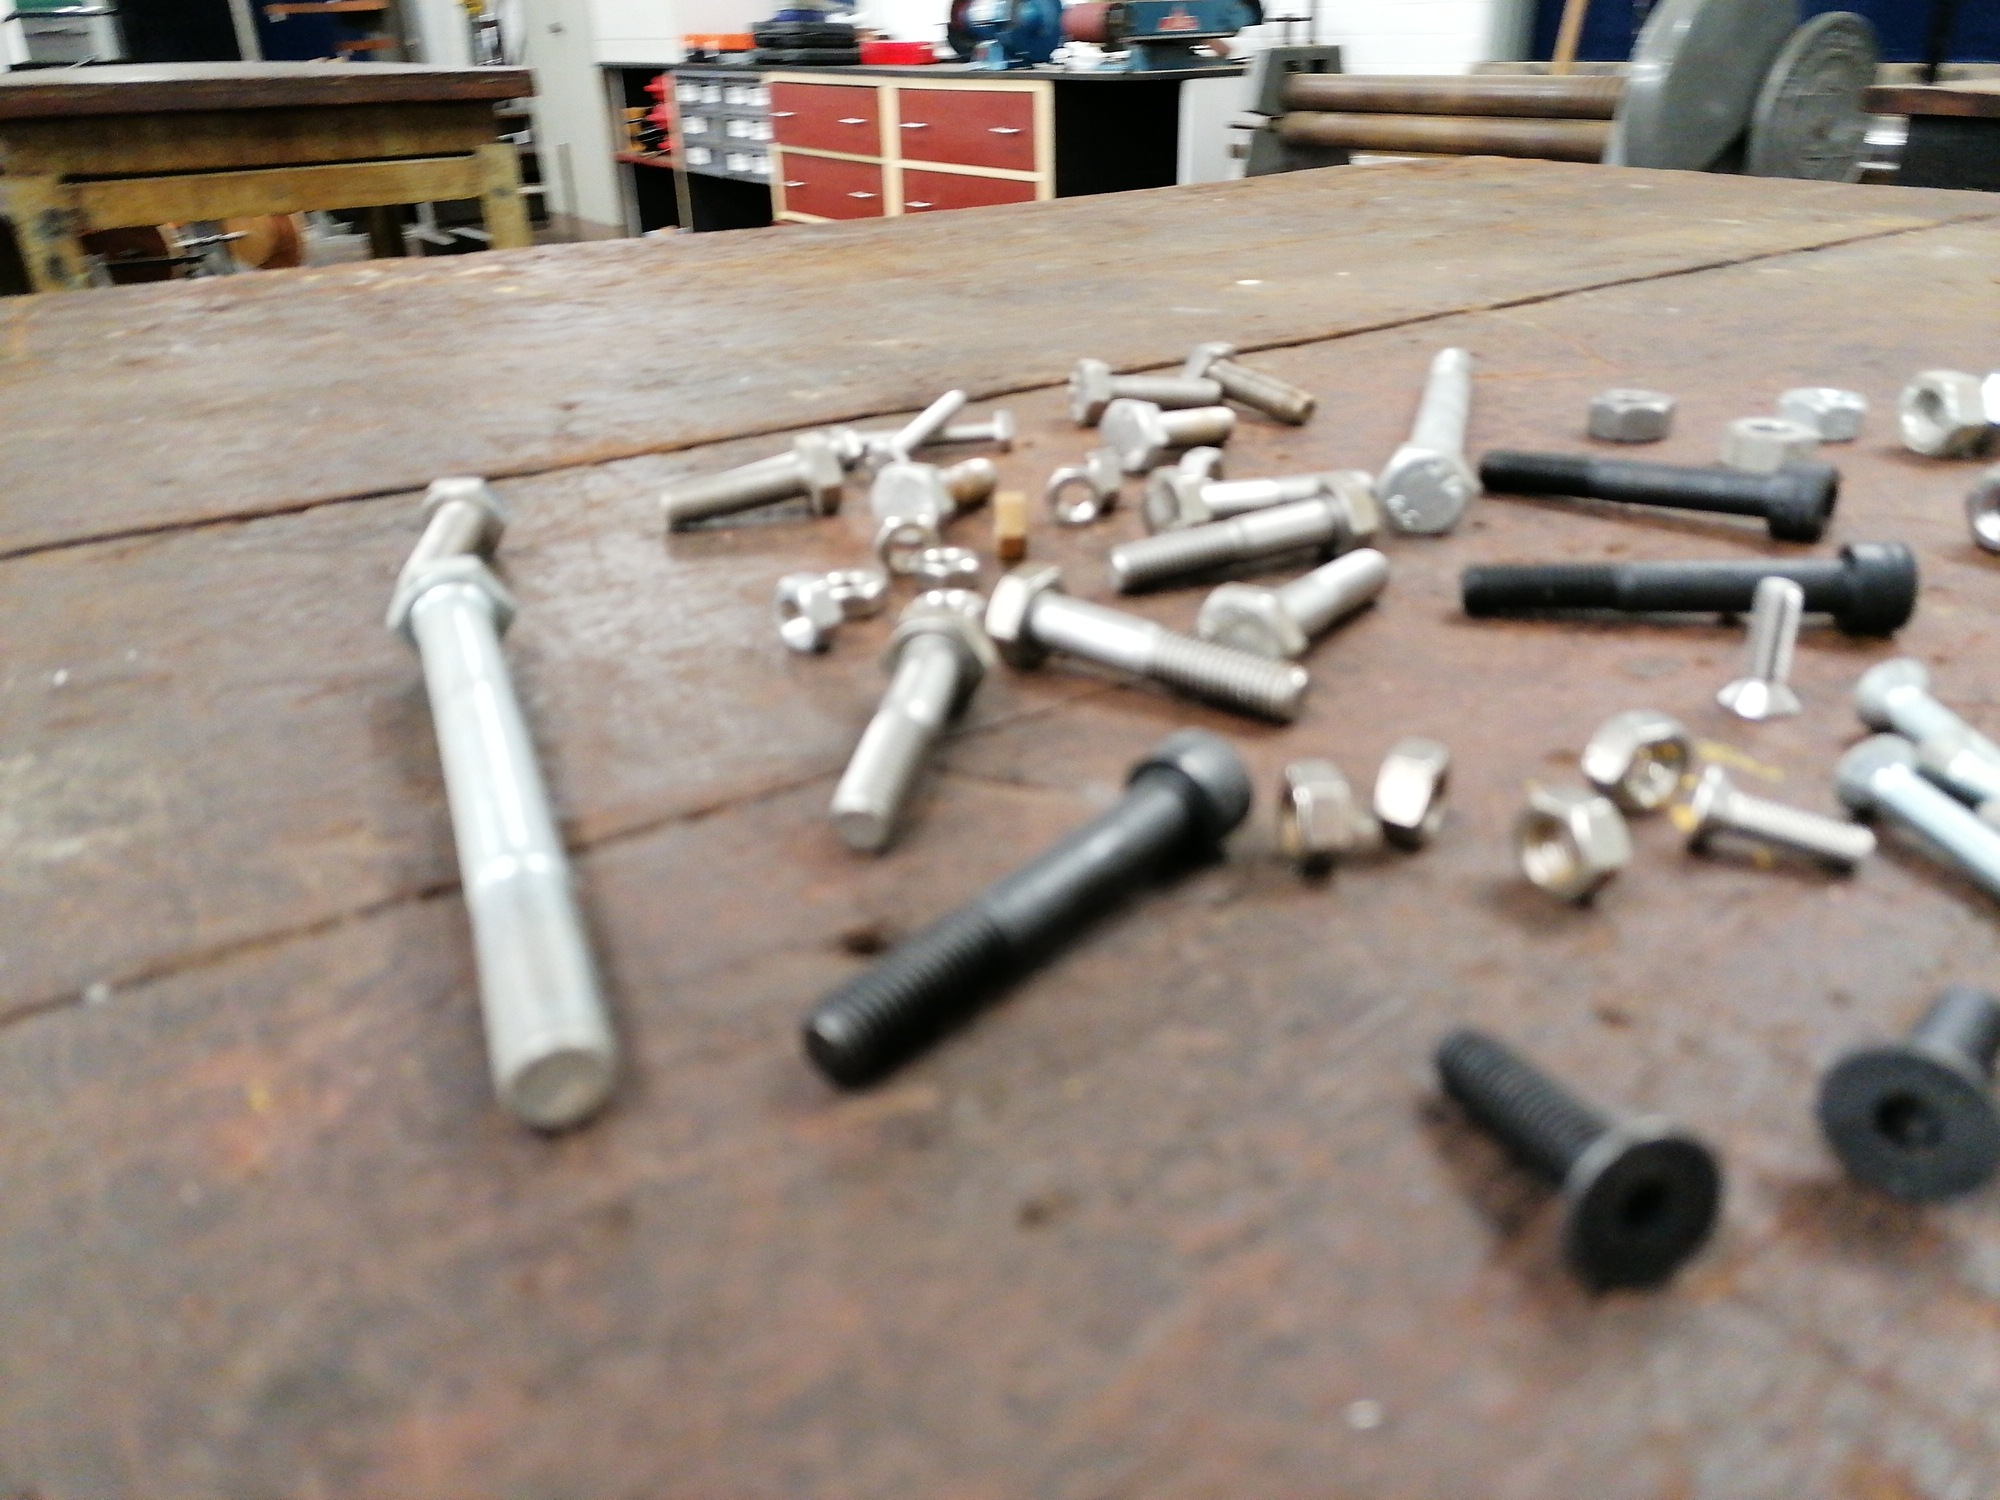bolt: (802, 728, 1252, 1090), (383, 551, 624, 1138), (1431, 1023, 1723, 1298), (984, 559, 1321, 725), (1463, 539, 1918, 640), (827, 611, 1000, 852), (1817, 977, 2000, 1205), (1479, 446, 1841, 544), (1102, 473, 1380, 592), (1833, 733, 1998, 901), (1194, 548, 1392, 663), (383, 474, 513, 637), (1373, 343, 1482, 537), (1855, 657, 2000, 802), (1685, 764, 1877, 871), (657, 430, 844, 526), (1715, 574, 1805, 723), (1183, 339, 1317, 425), (868, 455, 997, 544), (1091, 399, 1236, 471), (1068, 358, 1222, 425), (857, 407, 1016, 460), (865, 388, 965, 466)
nut: (1501, 766, 1635, 911), (1580, 707, 1694, 818), (1272, 756, 1353, 881), (1372, 733, 1457, 849), (1896, 367, 1984, 455), (1718, 411, 1828, 473), (769, 572, 844, 655), (1776, 381, 1869, 443), (1586, 388, 1679, 443), (871, 514, 939, 578), (1044, 463, 1102, 529), (827, 562, 890, 619), (912, 544, 980, 592), (987, 487, 1030, 562), (1085, 444, 1120, 514)
